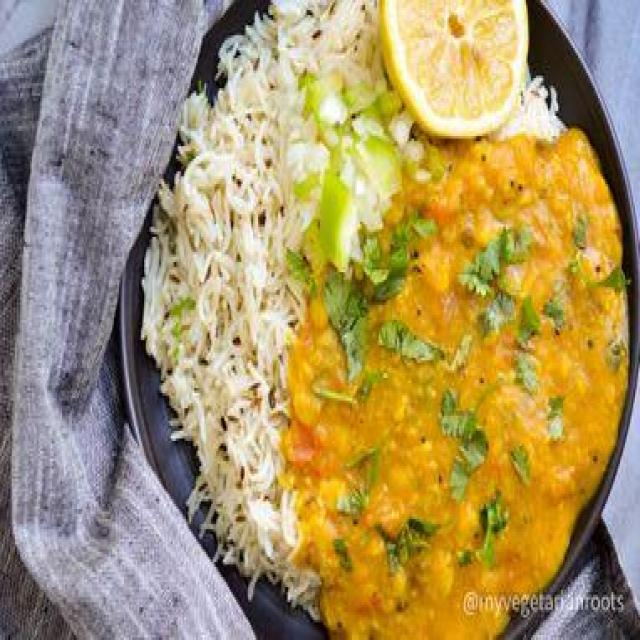dal: (296, 142, 635, 640)
rice: (139, 3, 424, 607)
